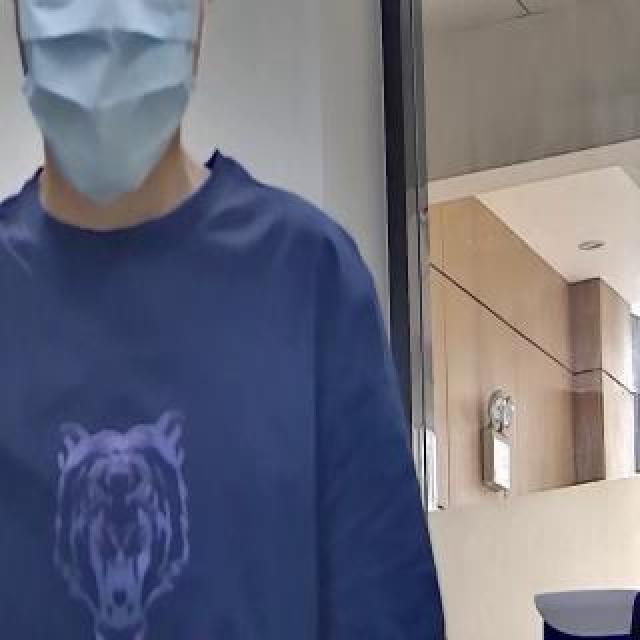Guns: (0, 12, 8, 586)
